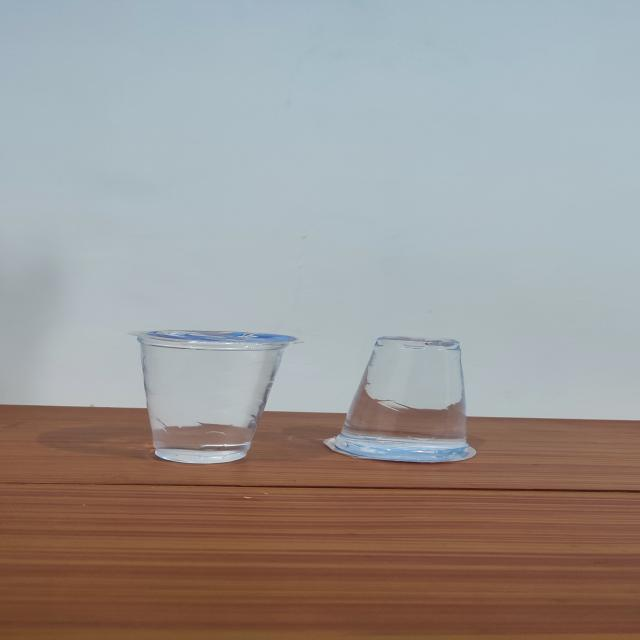air gelas: (311, 325, 490, 471), (135, 321, 302, 471)
